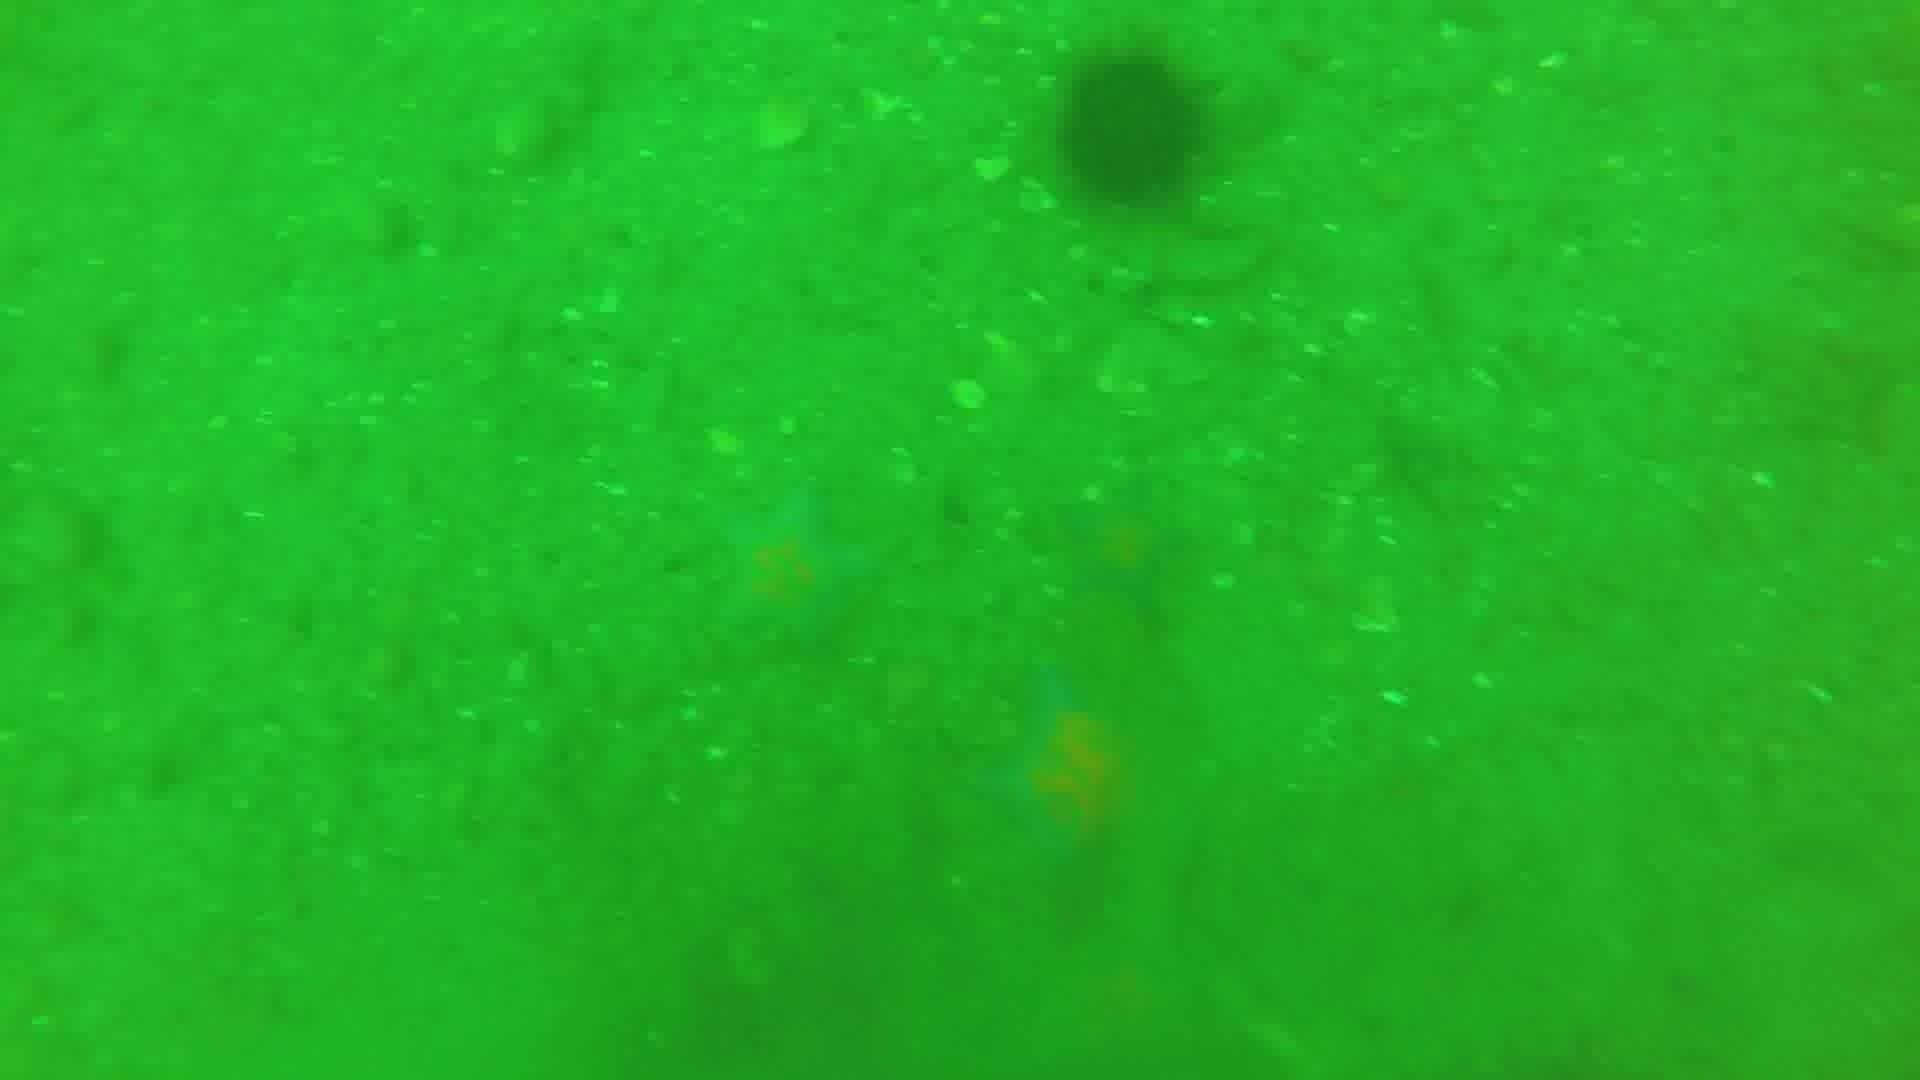echinus: (1051, 47, 1213, 208)
starfish: (965, 669, 1185, 919), (705, 484, 887, 658), (1048, 476, 1200, 628)
